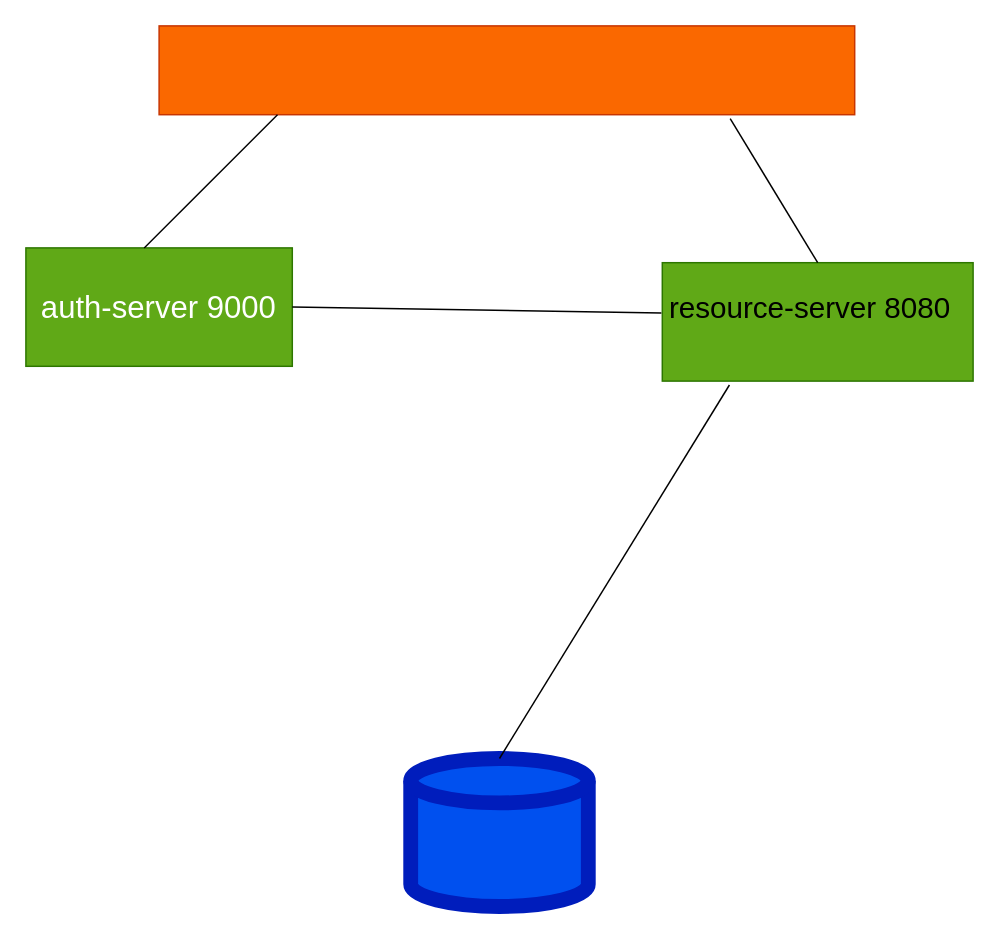
This 999x940 diagram has some shape labels left out. Here are the shapes that lost their labels. From the top down, the centre of each, then its label:
point (506, 69): CLIENT
point (499, 831): resource-db
